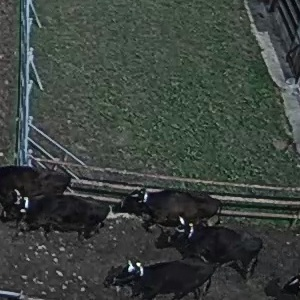cow: (5, 190, 110, 246), (114, 181, 227, 232), (155, 217, 266, 264), (102, 251, 207, 298)
